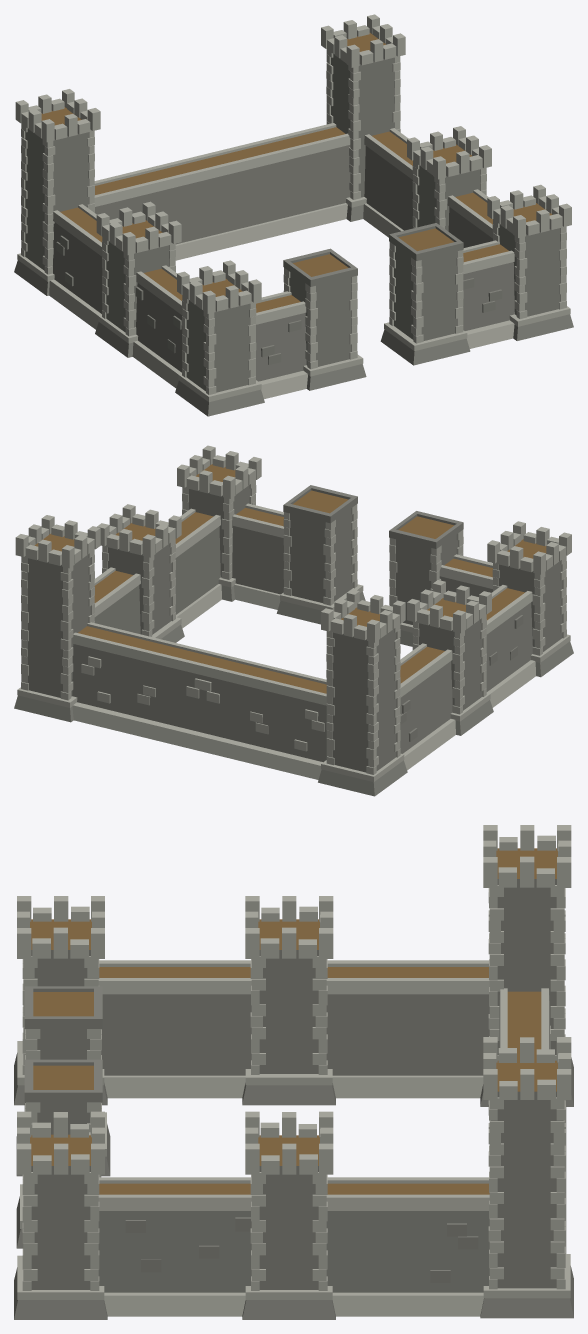
The model's file is WonderWalls_SecondAge.glb.
The picture shows the model from 3 angles, top to bottom: view 1: azimuth 30°, elevation 25°; view 2: azimuth 150°, elevation 25°; view 3: azimuth 270°, elevation 25°; orthographic projection. The views are drawn at different scales.
Parts seen in each view (by area): view 1: WonderWalls_SecondAge; view 2: WonderWalls_SecondAge; view 3: WonderWalls_SecondAge.
Part boxes in pixels (<box>): WonderWalls_SecondAge: <box>14,14,573,416</box>; WonderWalls_SecondAge: <box>14,445,573,796</box>; WonderWalls_SecondAge: <box>14,825,573,1319</box>.
Size of the model in its own units: 2.1 by 0.9369 by 1.96.
